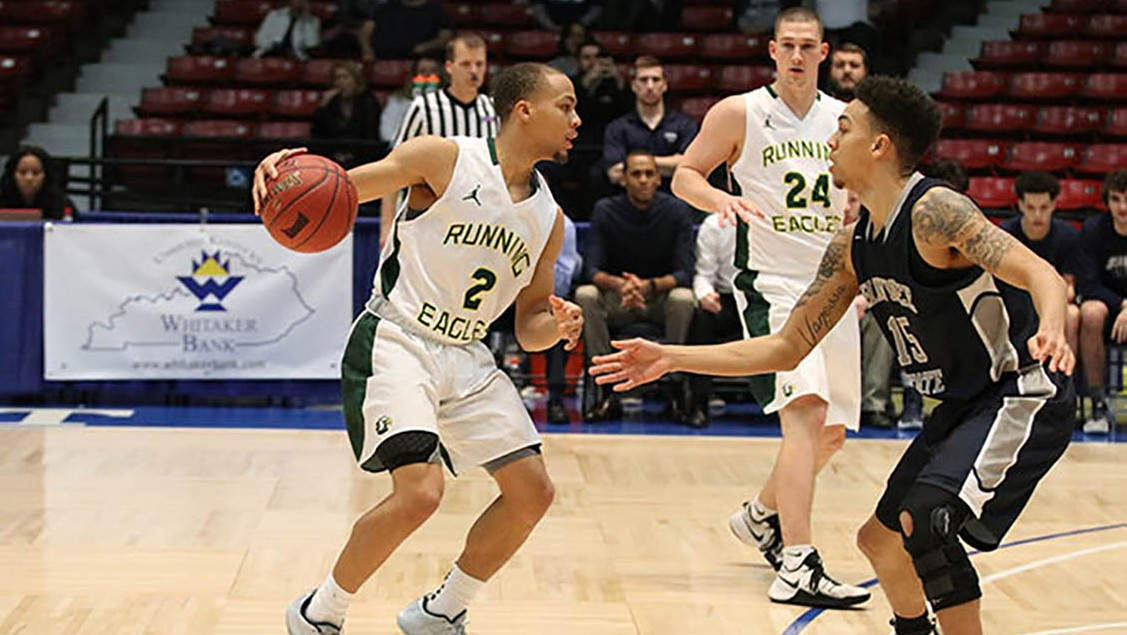ball: (233, 133, 368, 267)
defense: (677, 76, 1102, 635)
